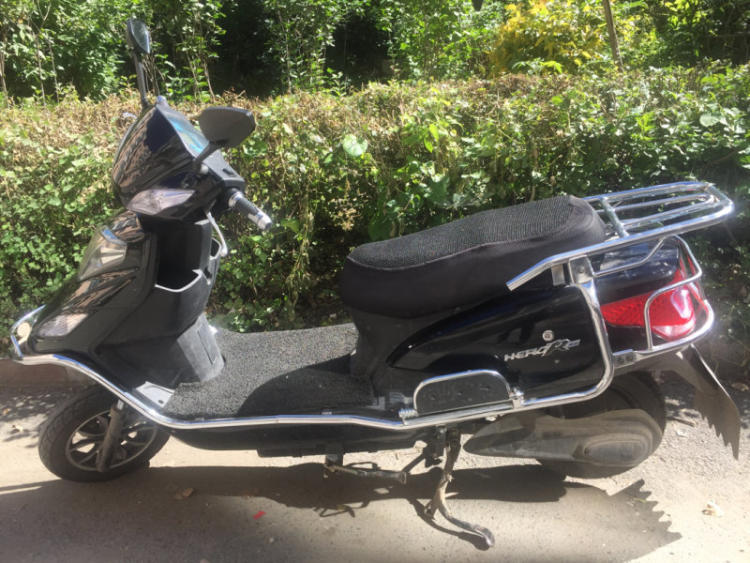电动车: (1, 15, 744, 550)
